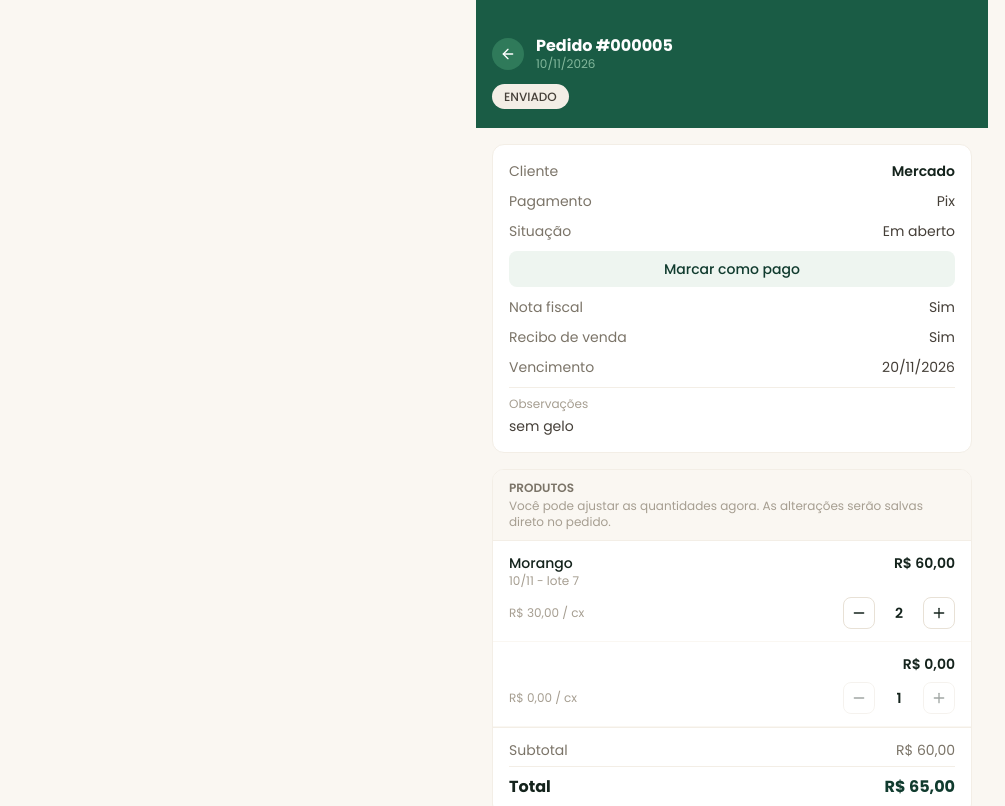
Scenario: detalhe do pedido › pedido enviado: salva direto
Check: the text "salvas direto no pedido" is shown, box [509, 497, 923, 530]
Click the 4th button: (939, 613) [923, 597, 955, 629]
(page scrolled)
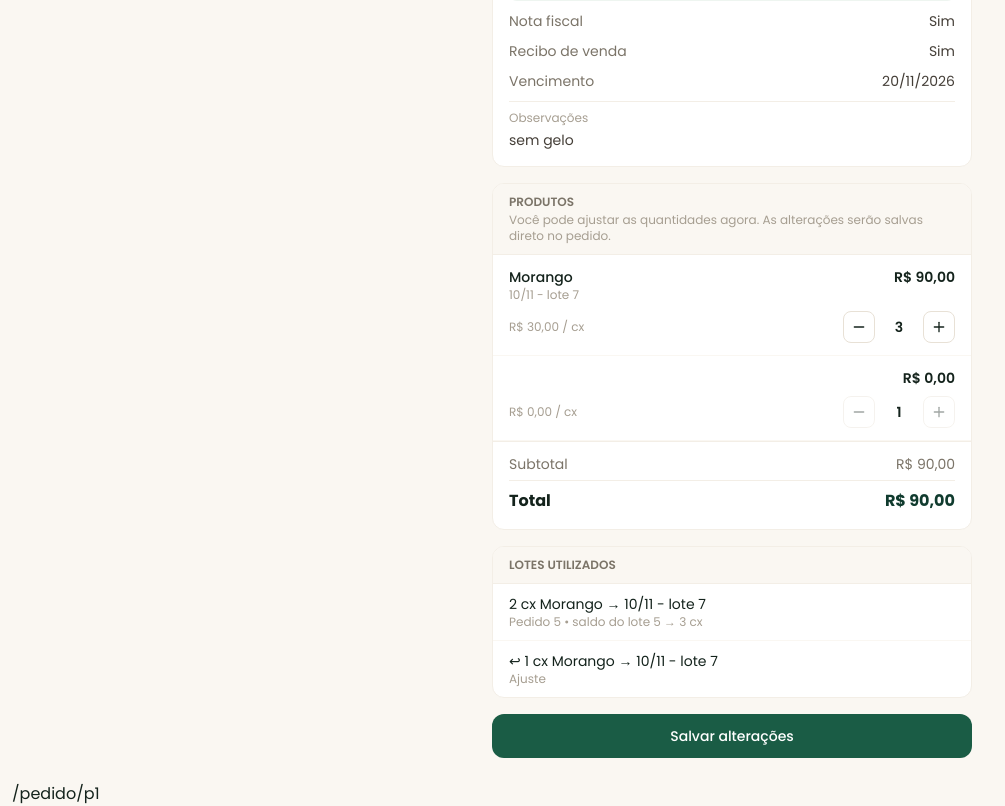
Click the button "Salvar alterações": (732, 736) [492, 714, 972, 758]
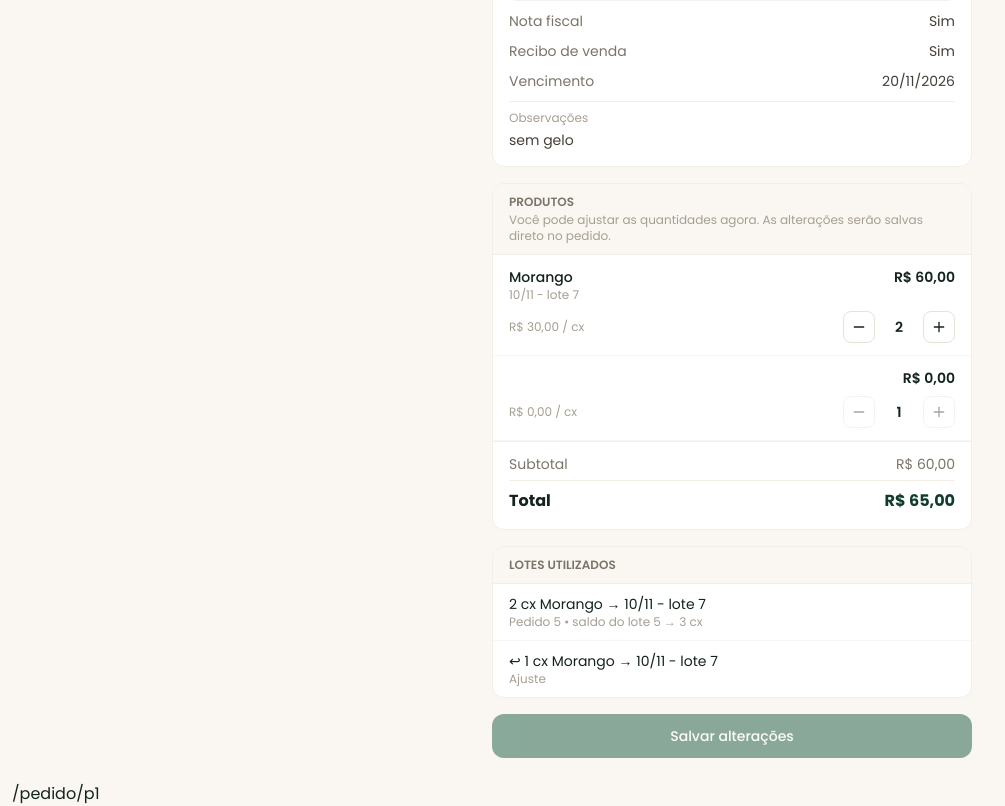
Check: the element that starts with "PRODUTOS" is shown, box [492, 183, 972, 530]
Click the 3rd button: (939, 327) [923, 311, 955, 343]
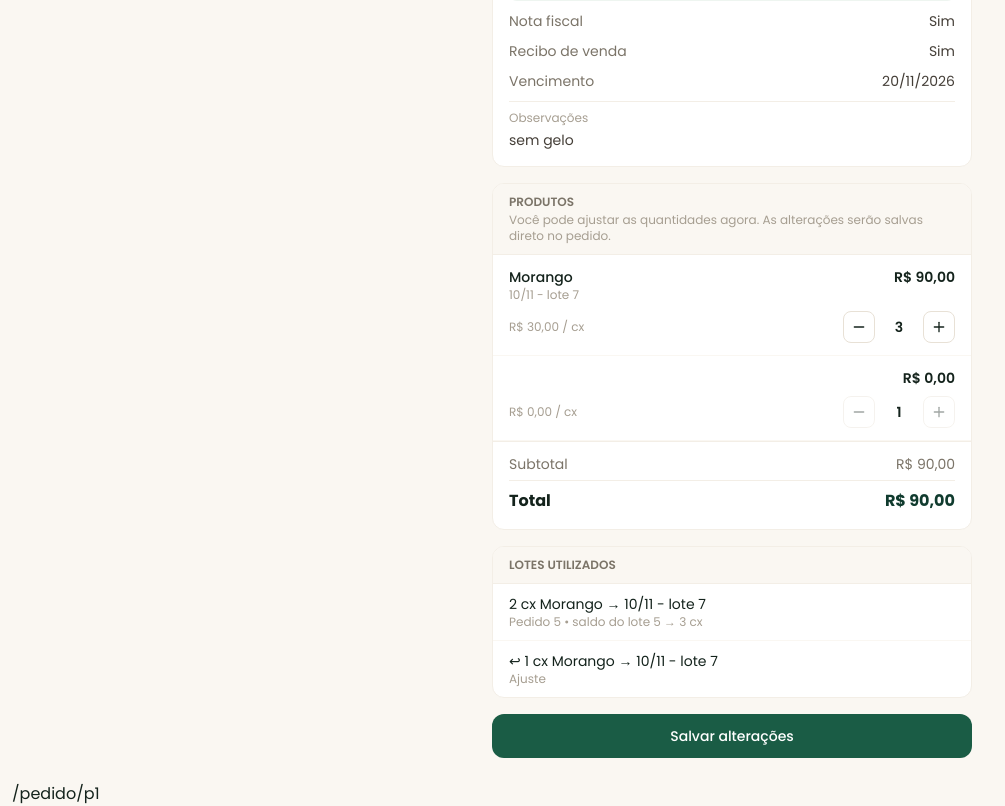
Click the button "Salvar alterações": (732, 736) [492, 714, 972, 758]
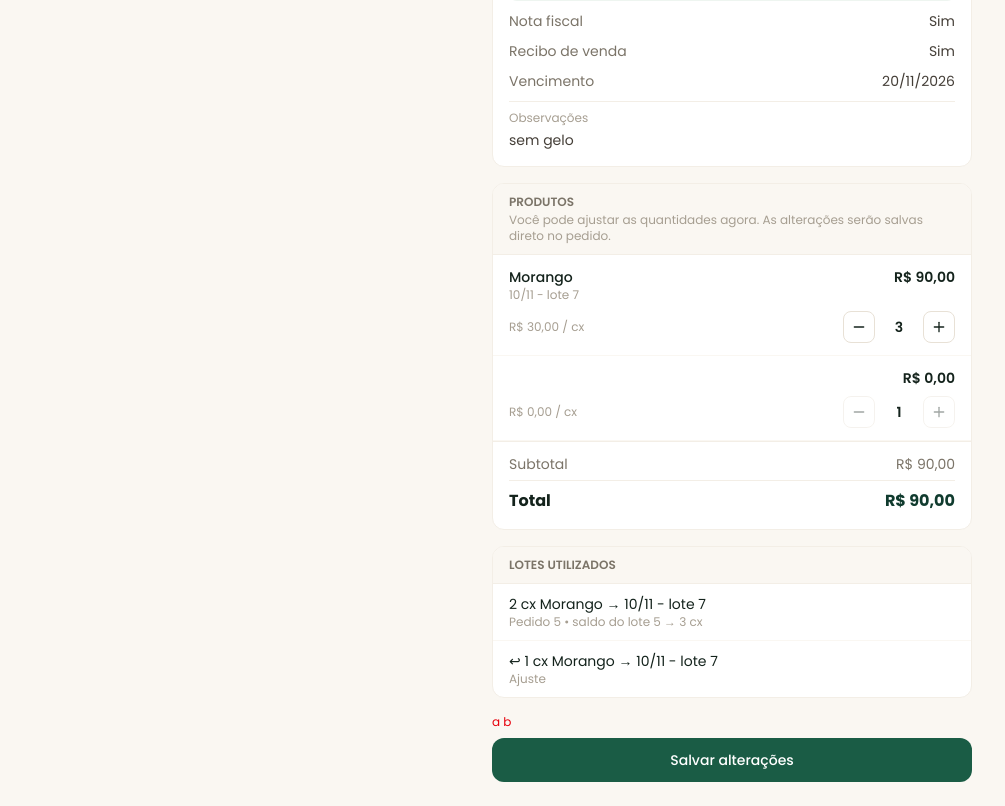
Check: the text "a b" is shown, box [492, 713, 511, 730]
Click the button "Salvar alterações": (732, 760) [492, 738, 972, 782]
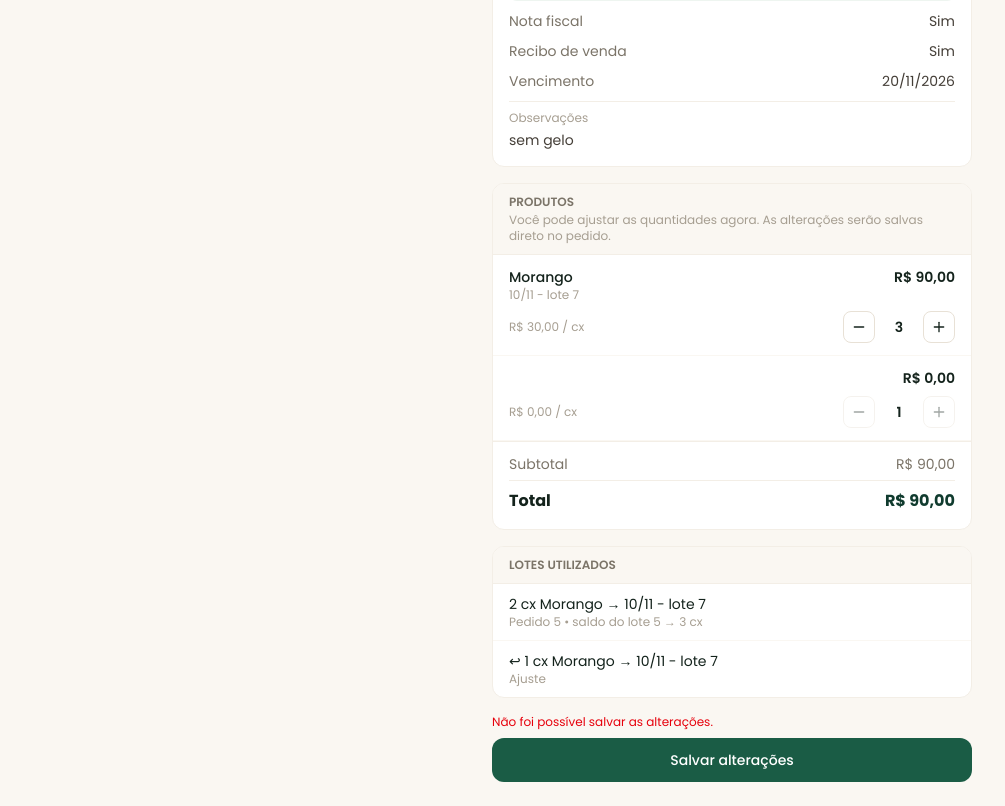
Check: the text "Não foi possível salvar as alterações." is shown, box [492, 713, 713, 730]
